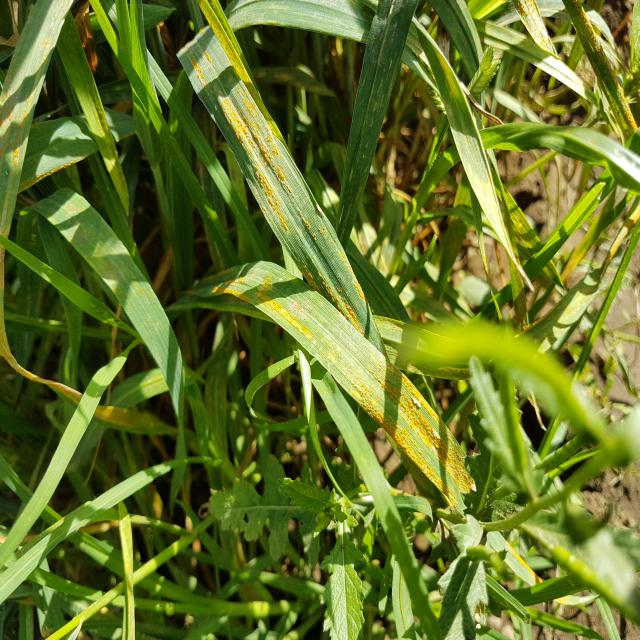leaf rust: (189, 57, 340, 354), (344, 346, 478, 504), (514, 2, 637, 132), (0, 0, 68, 178)
